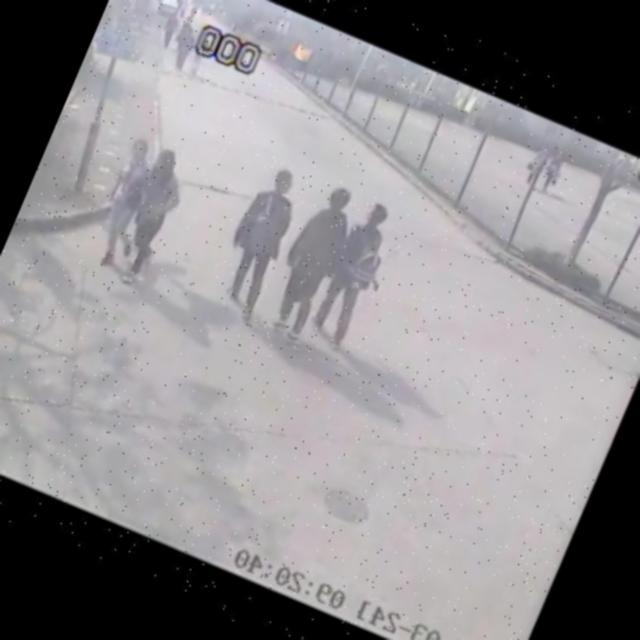person: (252, 172, 370, 349), (198, 158, 314, 328), (301, 193, 408, 356), (96, 140, 198, 293), (76, 134, 165, 276)
